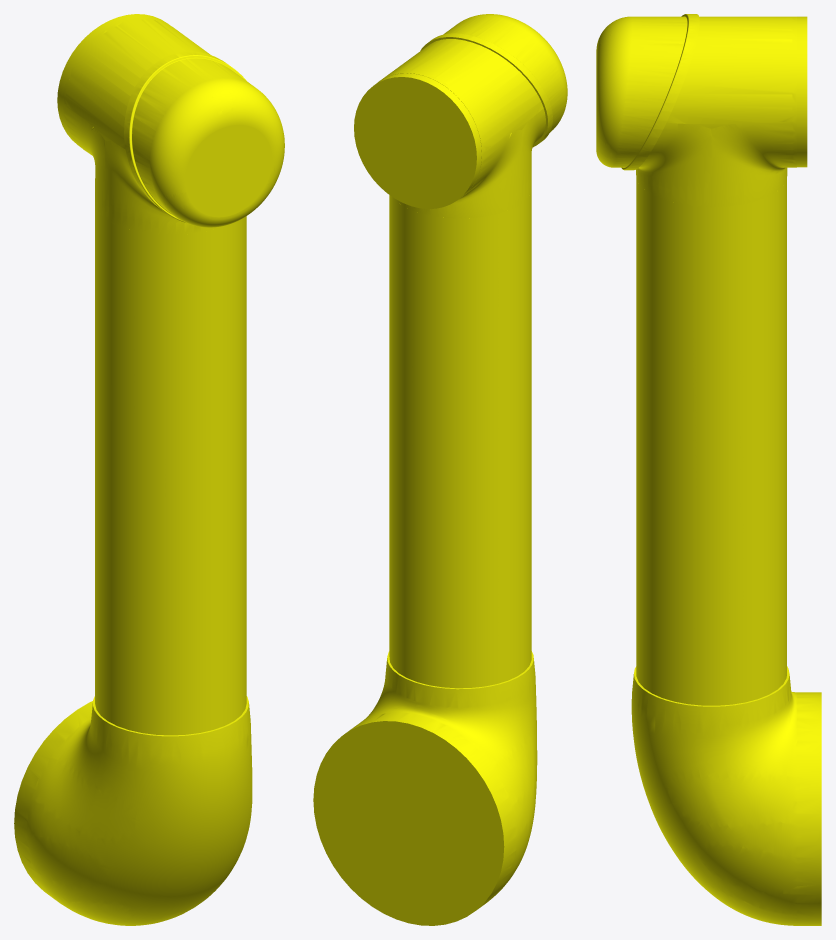
Rendered from forearm.dae.
The picture shows the model from 3 angles, left to right: view 1: azimuth 30°, elevation 25°; view 2: azimuth 150°, elevation 25°; view 3: azimuth 270°, elevation 25°; orthographic projection. The views are drawn at different scales.
Visible parts, largest first — view 1: Actor1, Actor3, Actor0_001, Actor2; view 2: Actor1, Actor3, Actor2, Actor0_001; view 3: Actor1, Actor3, Actor2, Actor0_001.
Boxes of the visible parts, x1,y1,x2,y2 form: Actor1: (95,204,246,735); Actor3: (14,696,252,925); Actor0_001: (124,51,284,227); Actor2: (57,14,222,234); Actor1: (389,191,531,688); Actor3: (313,651,537,925); Actor2: (354,39,545,218); Actor0_001: (420,14,567,147); Actor1: (636,178,786,705); Actor3: (631,666,821,925); Actor2: (636,16,807,207); Actor0_001: (596,14,699,170).
Size of the model in its own units: 0.116 by 0.1117 by 0.4892.
